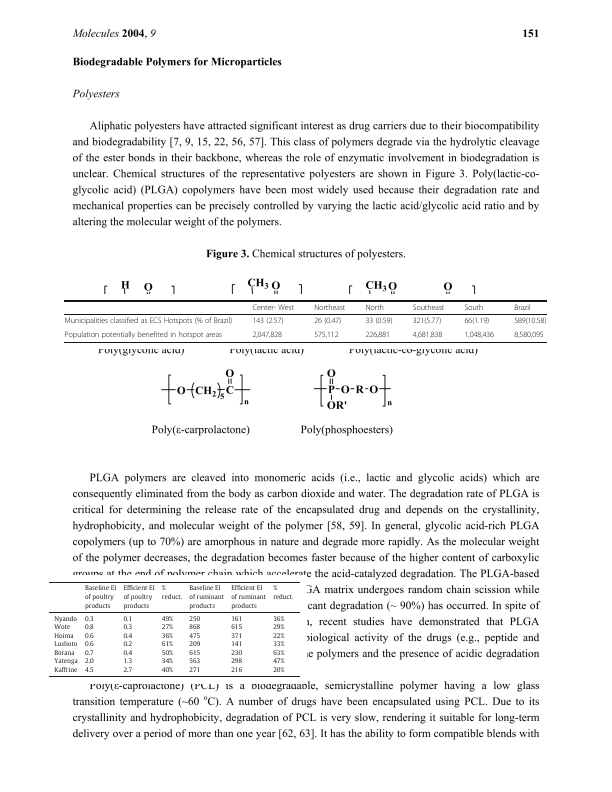borderless: (48, 580, 300, 676), (64, 299, 547, 342)
cell: (64, 316, 233, 326), (64, 330, 223, 340), (188, 585, 225, 610), (230, 585, 267, 610), (84, 585, 117, 610), (123, 585, 156, 610), (251, 303, 295, 312), (272, 585, 295, 601), (161, 585, 183, 601), (513, 316, 547, 326), (251, 316, 284, 326), (251, 330, 283, 340), (463, 330, 495, 340), (513, 330, 545, 340), (412, 330, 443, 340), (412, 316, 442, 326), (313, 303, 346, 312), (412, 303, 445, 312), (313, 316, 342, 326), (364, 316, 393, 326), (463, 316, 490, 326), (364, 330, 391, 340), (313, 330, 339, 340), (53, 666, 79, 675), (53, 640, 78, 649), (53, 658, 79, 666), (53, 615, 78, 623), (364, 303, 385, 312), (463, 303, 484, 312), (53, 649, 76, 657), (53, 632, 75, 640), (513, 303, 532, 312), (53, 623, 71, 632), (161, 623, 174, 632), (188, 623, 201, 632), (230, 623, 243, 632), (272, 623, 285, 632), (161, 640, 174, 649), (188, 640, 201, 649), (230, 640, 243, 649), (272, 640, 285, 649), (161, 666, 174, 675), (188, 666, 201, 675), (230, 666, 243, 675), (272, 666, 285, 675), (161, 615, 174, 623), (188, 615, 201, 623), (230, 615, 243, 623), (272, 615, 285, 623), (161, 632, 174, 640), (188, 632, 201, 640), (230, 632, 243, 640), (272, 632, 285, 640), (161, 649, 174, 657), (188, 649, 201, 657), (230, 649, 243, 657), (272, 649, 285, 657), (161, 658, 174, 666), (188, 658, 201, 666), (230, 658, 243, 666), (272, 658, 285, 666), (84, 623, 95, 632), (84, 640, 95, 649), (84, 666, 95, 675), (123, 623, 133, 632), (123, 640, 133, 649), (123, 666, 133, 675), (84, 615, 95, 623), (84, 632, 95, 640), (84, 649, 95, 657), (84, 658, 95, 666), (123, 615, 133, 623), (123, 632, 133, 640), (123, 649, 133, 657), (123, 658, 133, 666)
